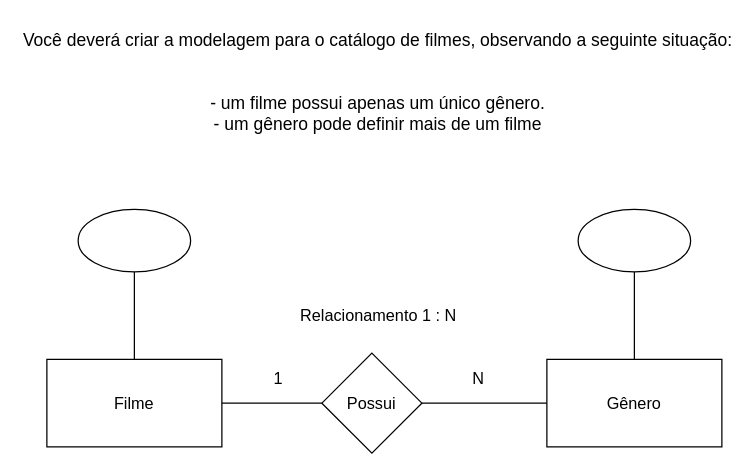
Some shapes in this 755 by 475 pixel diagram are drawn without their labels. Each missing label, with the centre of its shape:
"Nome" belongs at point (134, 240).
"Tipo" belongs at point (634, 240).
